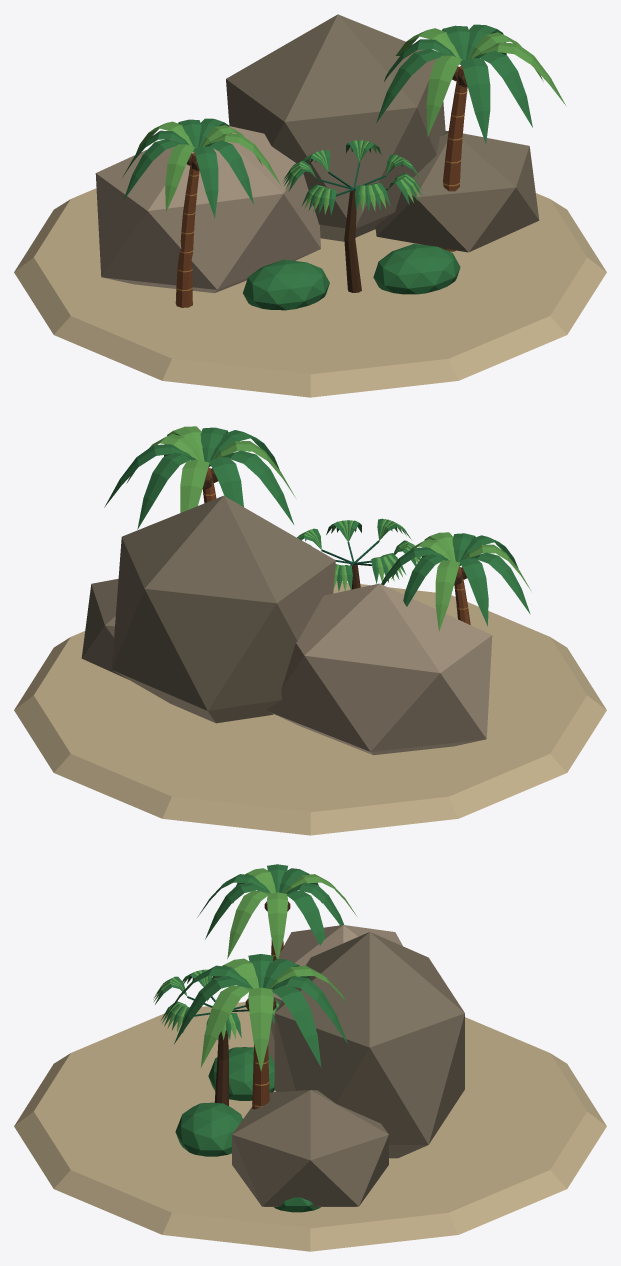
The model's file is Tropical_IslandBackdrop_Showcase.glb.
3 renders of one model, top to bottom at view 1: azimuth 30°, elevation 25°; view 2: azimuth 150°, elevation 25°; view 3: azimuth 270°, elevation 25°, orthographic.
Parts seen in each view (by area): view 1: Tropical_IslandBackdrop_Showcase; view 2: Tropical_IslandBackdrop_Showcase; view 3: Tropical_IslandBackdrop_Showcase.
Boxes of the visible parts, bbox=[...] form: Tropical_IslandBackdrop_Showcase: bbox=[14, 14, 606, 397]; Tropical_IslandBackdrop_Showcase: bbox=[14, 426, 606, 835]; Tropical_IslandBackdrop_Showcase: bbox=[14, 864, 606, 1251].
Size of the model in its own units: 18 by 8.1 by 18.
